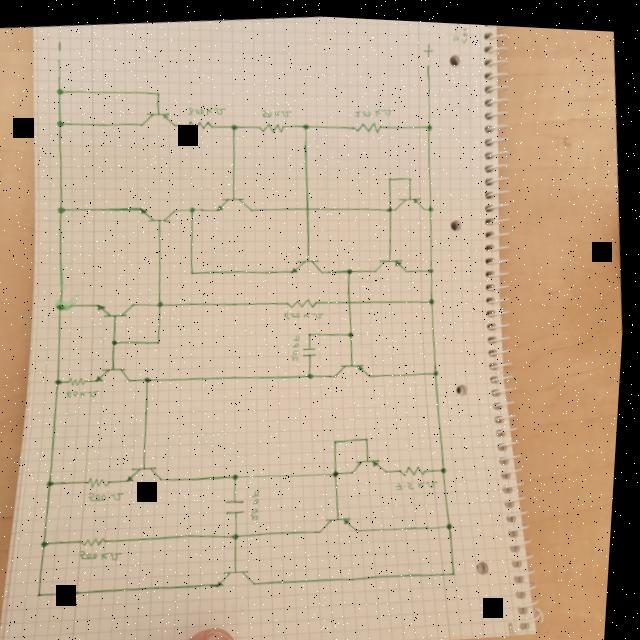capacitor: (229, 492, 255, 513), (306, 341, 323, 354)
crossover: (349, 293, 358, 302), (306, 200, 314, 209)
junction: (58, 298, 71, 310), (230, 118, 242, 130), (58, 202, 70, 214), (56, 84, 67, 96), (56, 117, 68, 128), (302, 117, 313, 128), (50, 476, 61, 487), (236, 528, 248, 538), (443, 460, 454, 470), (451, 515, 461, 526), (236, 468, 246, 478), (46, 537, 57, 546), (58, 376, 69, 385), (350, 325, 360, 334), (147, 373, 157, 382), (430, 291, 440, 300), (425, 117, 435, 126), (189, 202, 199, 211), (348, 262, 357, 272), (311, 366, 320, 376), (114, 336, 123, 346), (436, 362, 445, 372), (337, 465, 346, 474), (429, 261, 438, 270), (159, 297, 168, 306), (429, 199, 438, 208), (336, 433, 345, 441), (456, 564, 465, 572), (368, 430, 376, 438), (42, 589, 50, 597), (159, 336, 167, 344), (409, 169, 416, 177), (192, 266, 199, 274), (310, 326, 317, 334), (156, 88, 163, 95), (388, 170, 395, 177), (388, 201, 395, 208)
resistor: (258, 115, 290, 134), (403, 457, 435, 475), (353, 114, 385, 132), (287, 291, 323, 307), (187, 114, 217, 129), (86, 533, 115, 548), (92, 473, 119, 489), (71, 373, 94, 387)
terminal: (56, 54, 63, 62), (425, 57, 432, 64)
text: (399, 471, 445, 488), (85, 545, 130, 562), (285, 304, 330, 320), (354, 100, 396, 117), (188, 100, 228, 116), (93, 487, 131, 502), (261, 102, 295, 118), (253, 484, 269, 518), (69, 385, 105, 400), (292, 330, 306, 358), (422, 37, 436, 54), (56, 37, 66, 52)
transistor: (221, 563, 266, 588), (215, 189, 258, 214), (322, 509, 366, 533), (96, 361, 137, 386), (98, 296, 141, 319), (131, 460, 170, 485), (139, 106, 179, 130), (139, 201, 181, 223), (335, 355, 375, 376), (374, 250, 412, 272), (290, 251, 328, 273), (393, 188, 427, 211), (356, 451, 392, 472)
